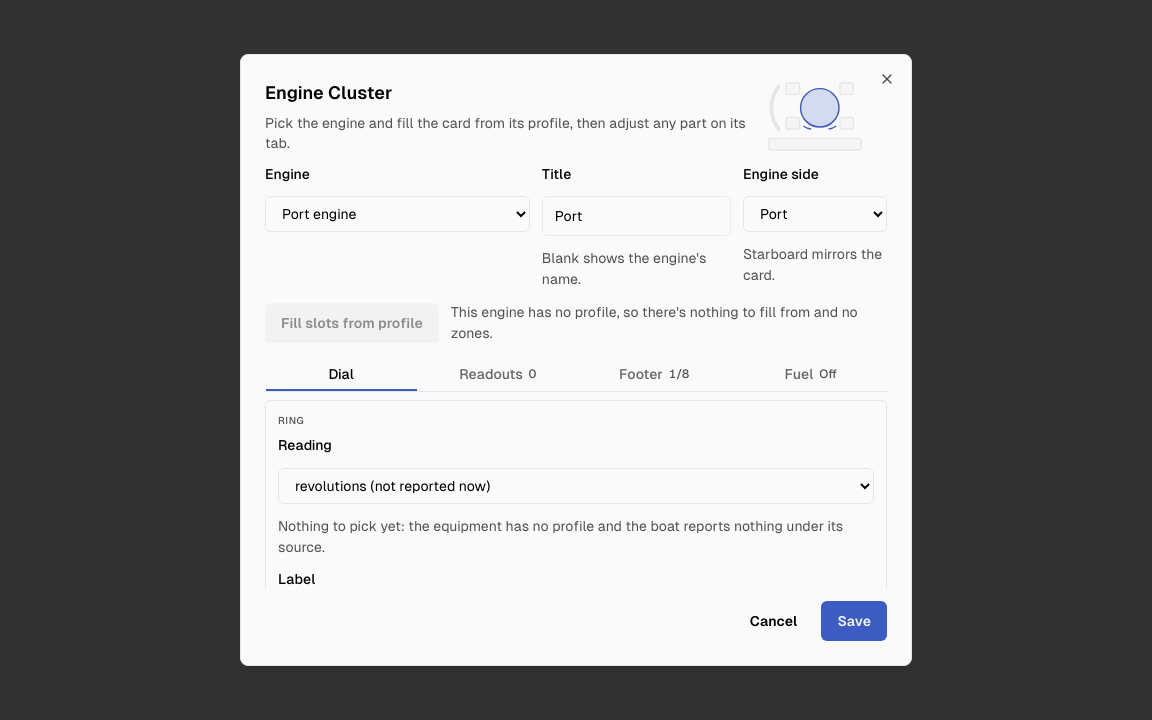
Test: the footer tab › says the equipment is missing when the bound item no longer exists
Click the tab "Footer 1/8": coordinates (654, 374) [578,356,730,391]
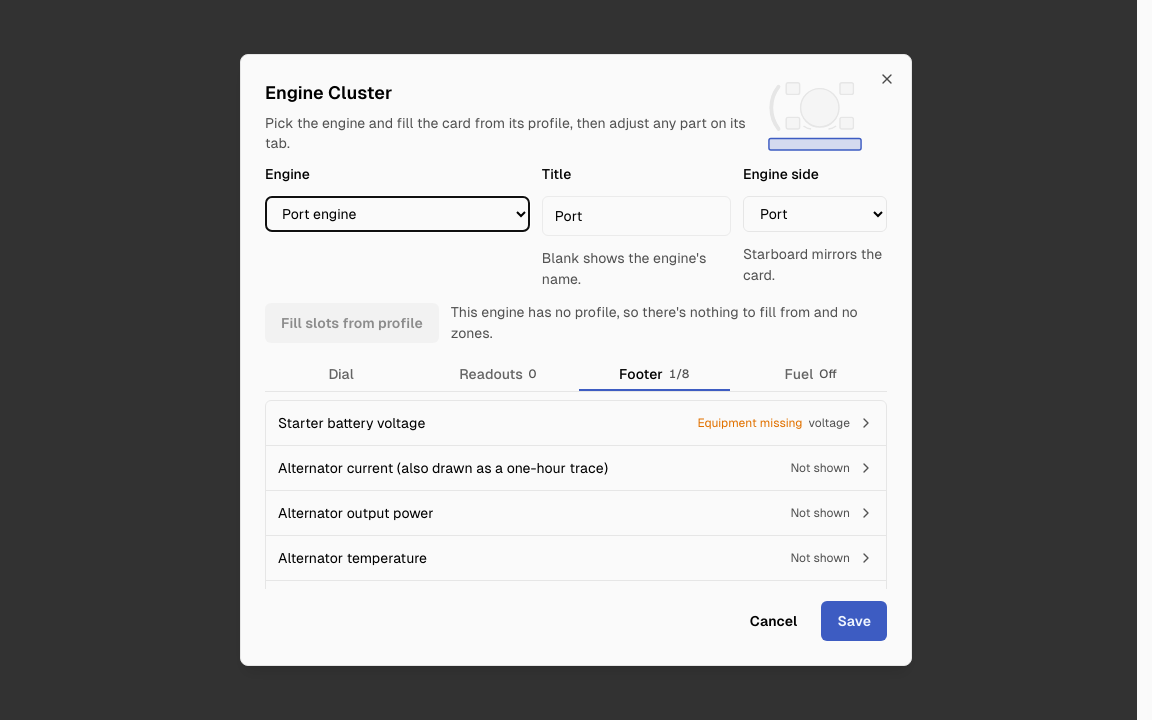
expect the text "Equipment missing" is shown: met, box [697,415,802,431]
